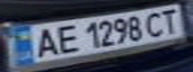1: (78, 19, 100, 48)
2: (96, 17, 115, 47)
8: (124, 13, 148, 42)
9: (112, 16, 130, 45)
A: (27, 25, 63, 58)
C: (142, 10, 169, 38)
E: (51, 22, 81, 55)
T: (157, 7, 184, 35)
